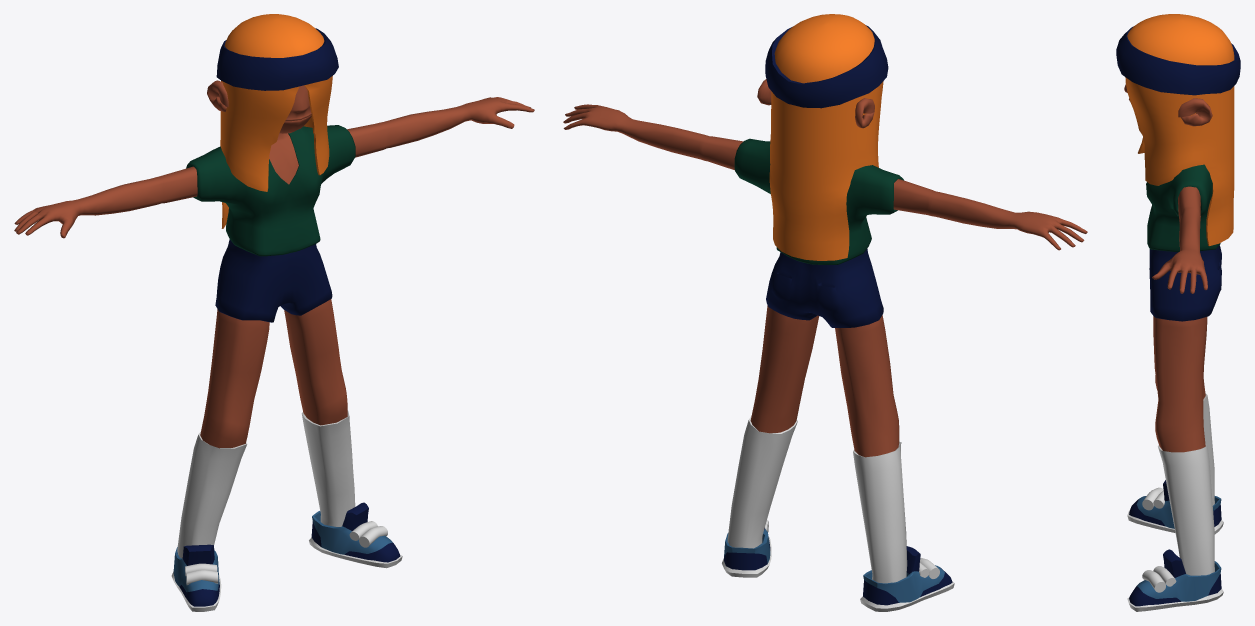
The model's file is GirlV2.fbx.
The picture shows the model from 3 angles, left to right: view 1: azimuth 30°, elevation 25°; view 2: azimuth 150°, elevation 25°; view 3: azimuth 270°, elevation 25°; orthographic projection. The views are drawn at different scales.
Visible parts, largest first — view 1: MaximeLenglet_Turnaround; view 2: MaximeLenglet_Turnaround; view 3: MaximeLenglet_Turnaround.
Boxes of the visible parts, x1,y1,x2,y2 form: MaximeLenglet_Turnaround: (14,14,534,611); MaximeLenglet_Turnaround: (563,14,1087,611); MaximeLenglet_Turnaround: (1116,14,1240,611).
Size of the model in its own units: 158 by 161 by 33.53.
